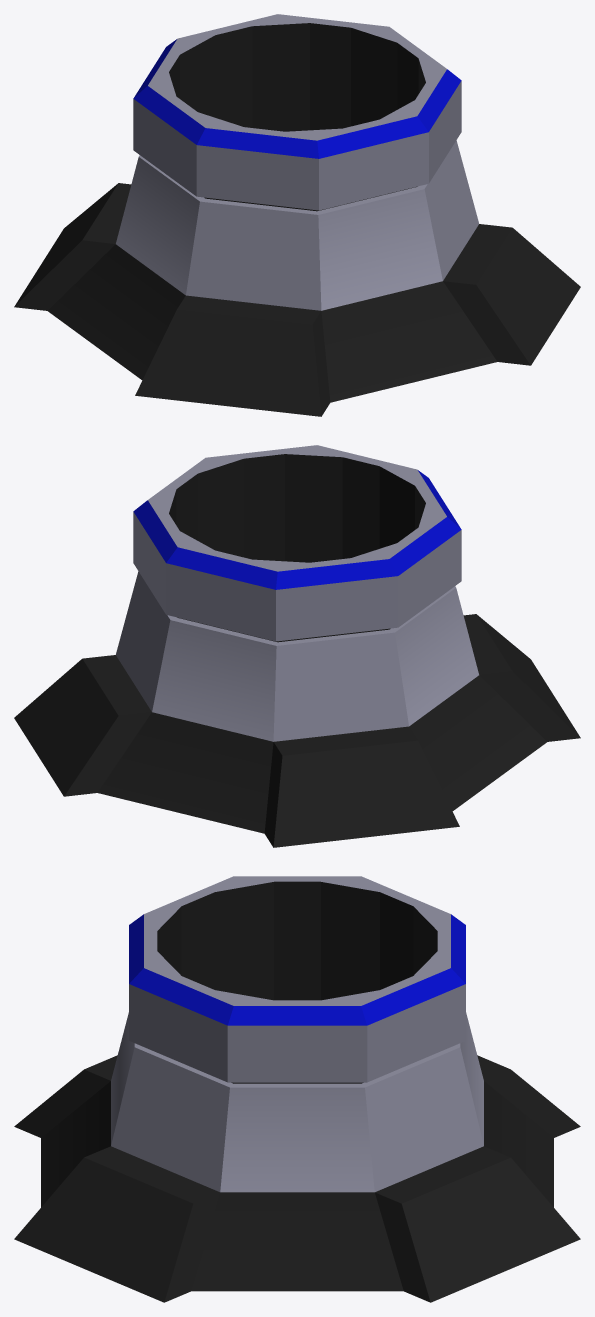
The model's file is basic_base.FBX.
The picture shows the model from 3 angles, top to bottom: view 1: azimuth 30°, elevation 25°; view 2: azimuth 150°, elevation 25°; view 3: azimuth 270°, elevation 25°; orthographic projection. The views are drawn at different scales.
Visible parts, largest first — view 1: Base; view 2: Base; view 3: Base.
Part boxes in pixels (<box>): Base: <box>14,14,580,416</box>; Base: <box>14,445,580,847</box>; Base: <box>14,876,580,1302</box>.
Size of the model in its own units: 184 by 86.49 by 184.
